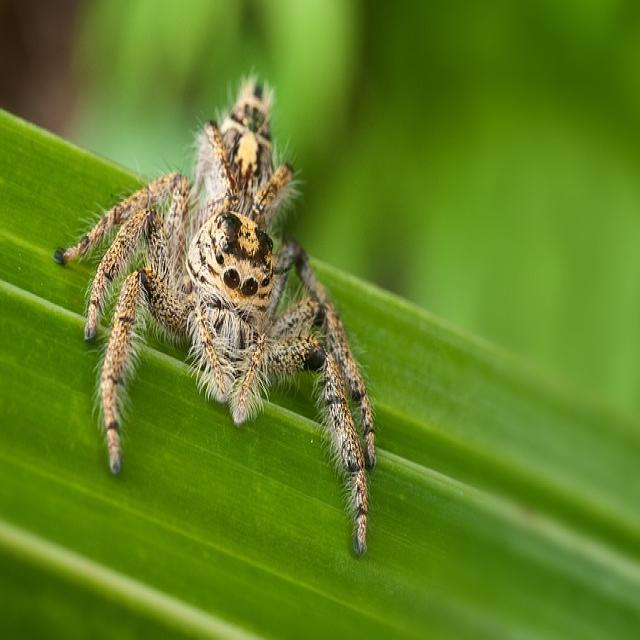spyder: (55, 80, 375, 554)
